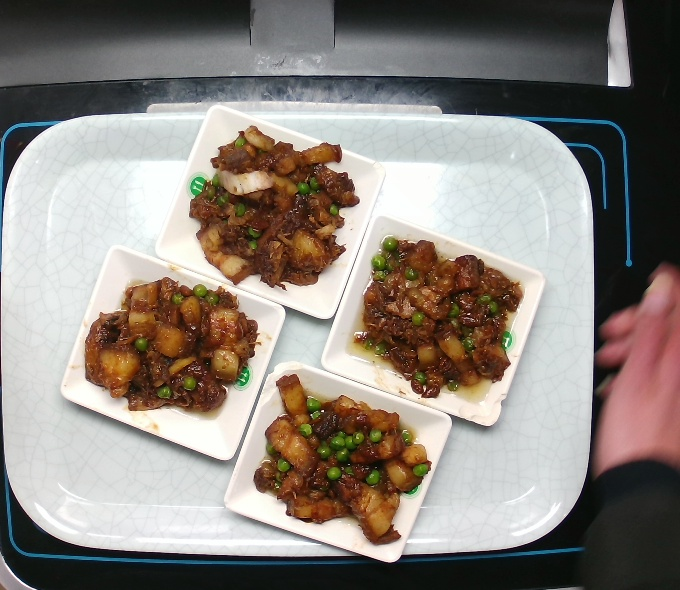wcq-JiangRou: (250, 374, 432, 546), (185, 122, 363, 295), (76, 271, 264, 429), (356, 233, 529, 399)
